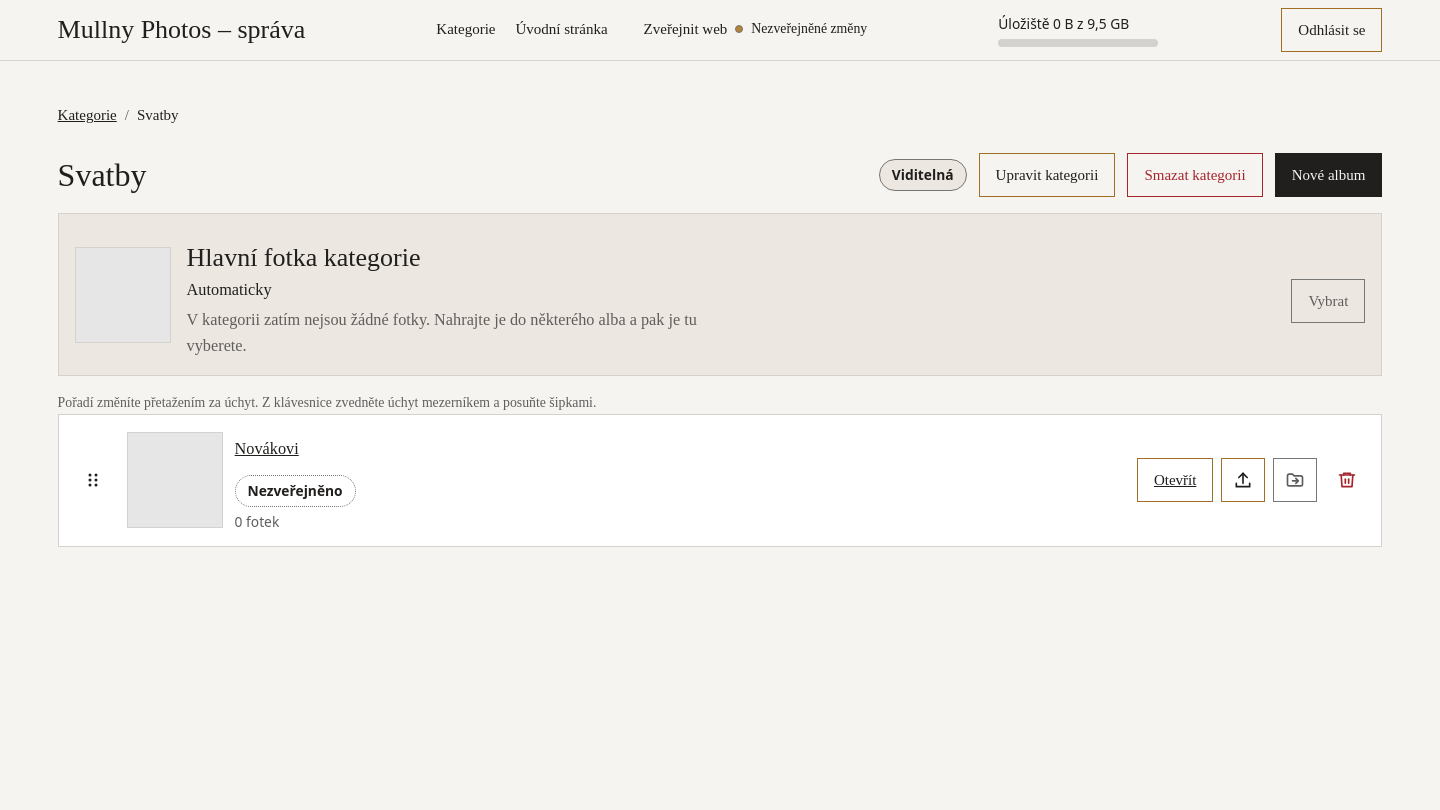
Test: new album › an empty title is refused with "Vyplňte název." and focus on the field
The image size is (1440, 810).
Expected: the heading "Svatby" is shown, [58, 156, 146, 194]
Expected: the link "Novákovi" is shown, [235, 439, 299, 458]
Click the button "Nové album" at (1329, 175), box [1275, 153, 1382, 197]
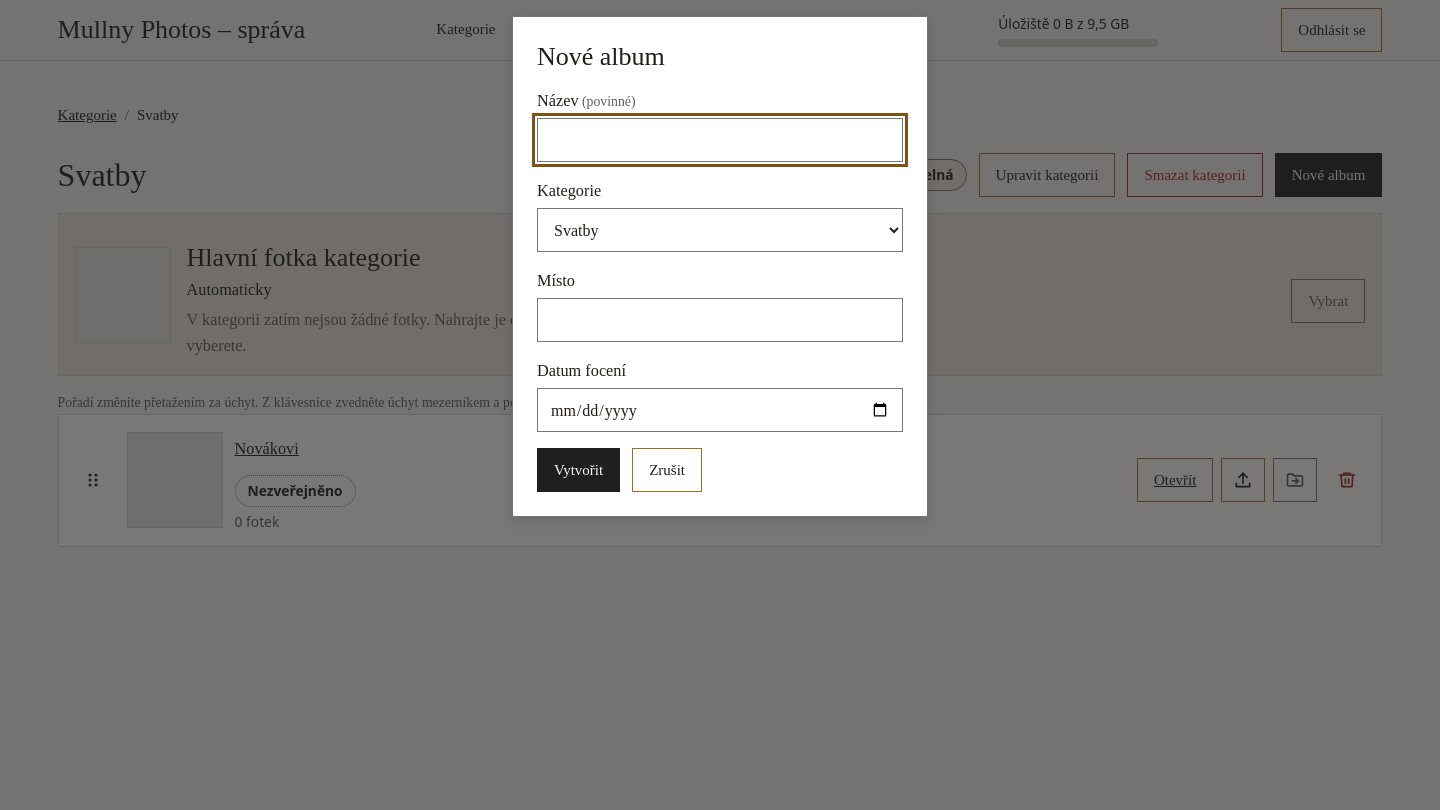
Click the button "Vytvořit" at (579, 470), box [537, 448, 620, 492]
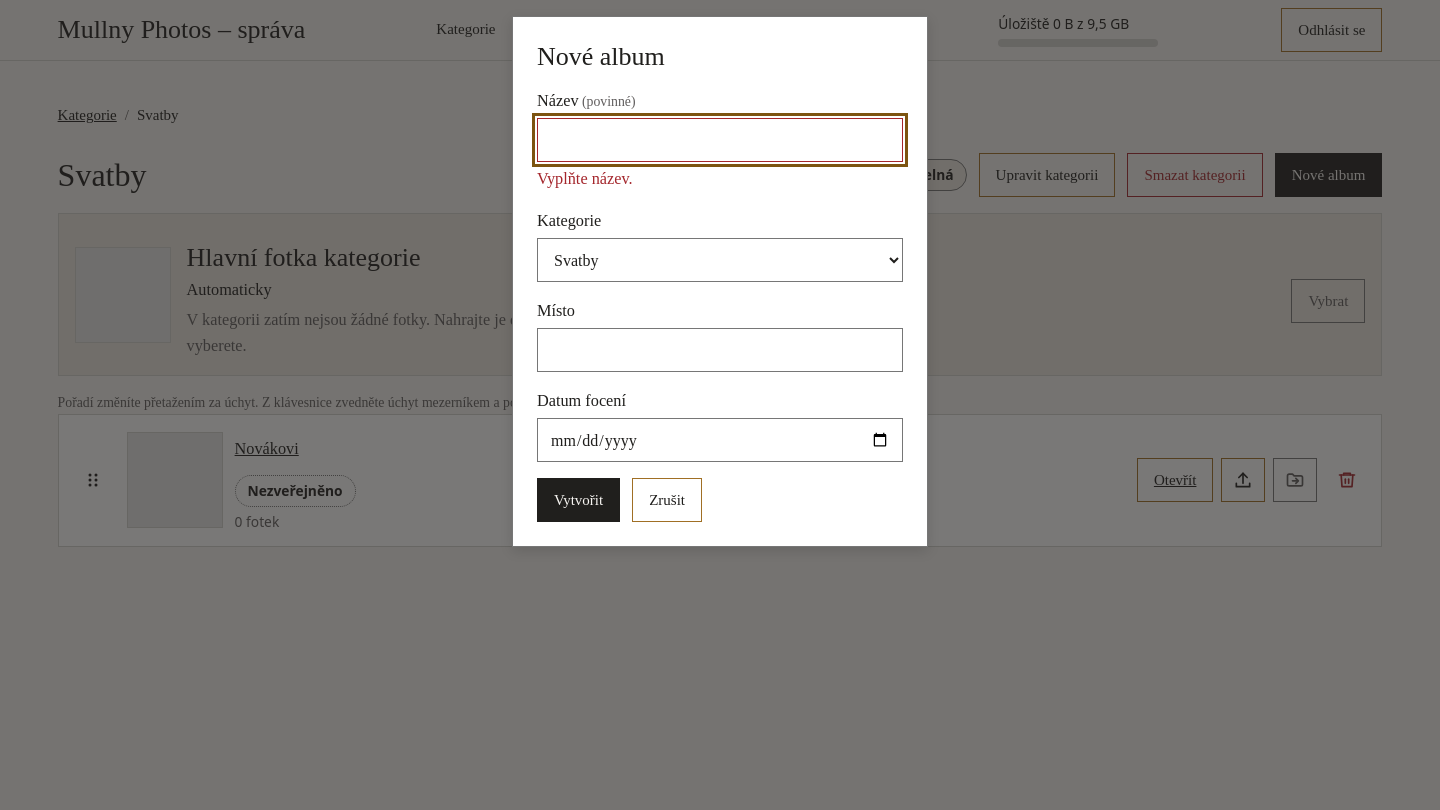
Now the text "Vyplňte název." is shown, box [537, 169, 633, 188]
